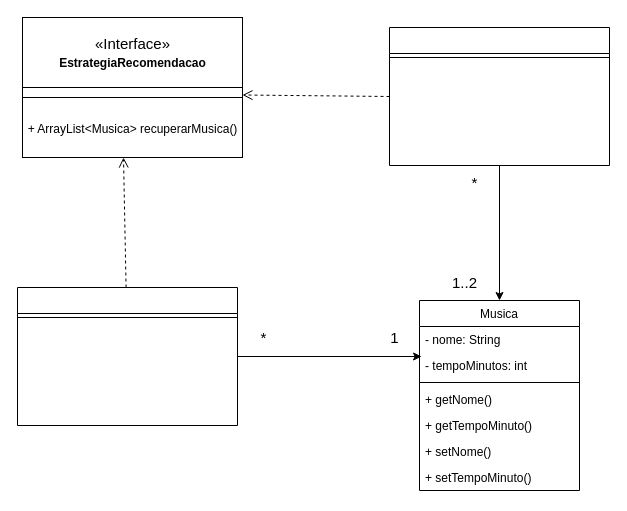
Some shapes in this 627 by 511 pixel diagram are drawn without their labels. Each missing label, with the centre of its shape:
RecomendacaoParaAdultos: the point at 499,96
RecomendacaoParaCriancas: the point at 127,356
